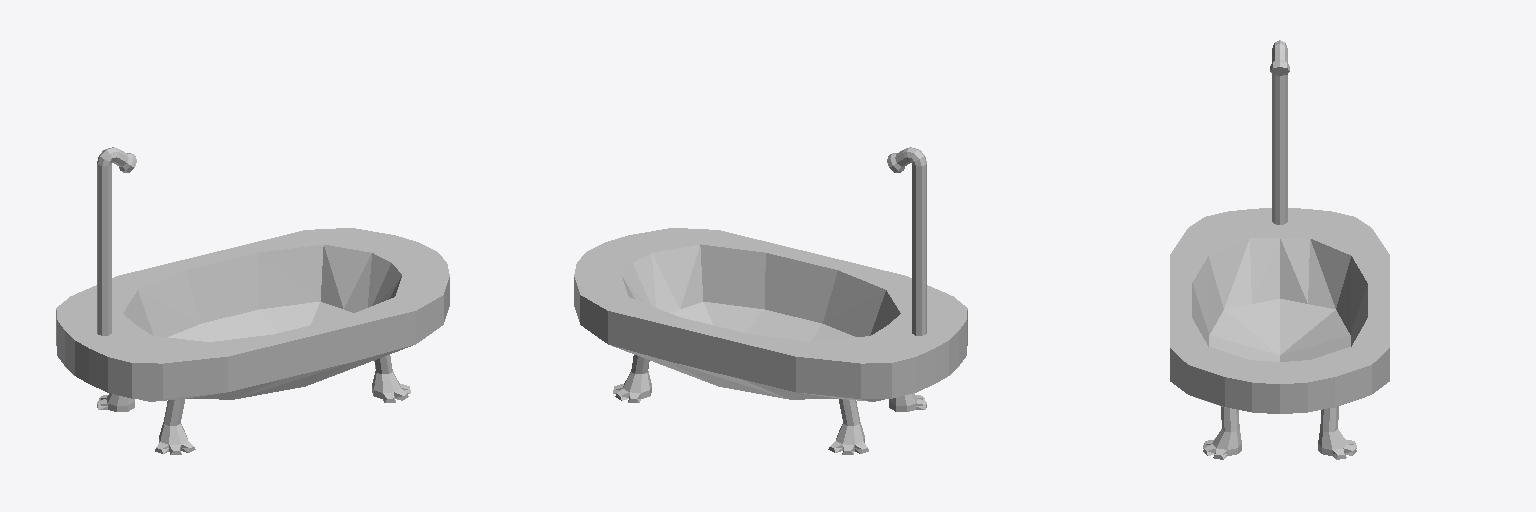
File: bathtub.obj
The picture shows the model from 3 angles: view 1: azimuth 30°, elevation 25°; view 2: azimuth 150°, elevation 25°; view 3: azimuth 270°, elevation 25°; orthographic projection.
Visible parts, largest first — view 1: bathtub; view 2: bathtub; view 3: bathtub.
Boxes of the visible parts, x1,y1,x2,y2 form: bathtub: [56, 147, 449, 454]; bathtub: [574, 147, 967, 454]; bathtub: [1170, 40, 1389, 459].
Bounding box in the file's own units: 6.33 × 4.77 × 3.34.